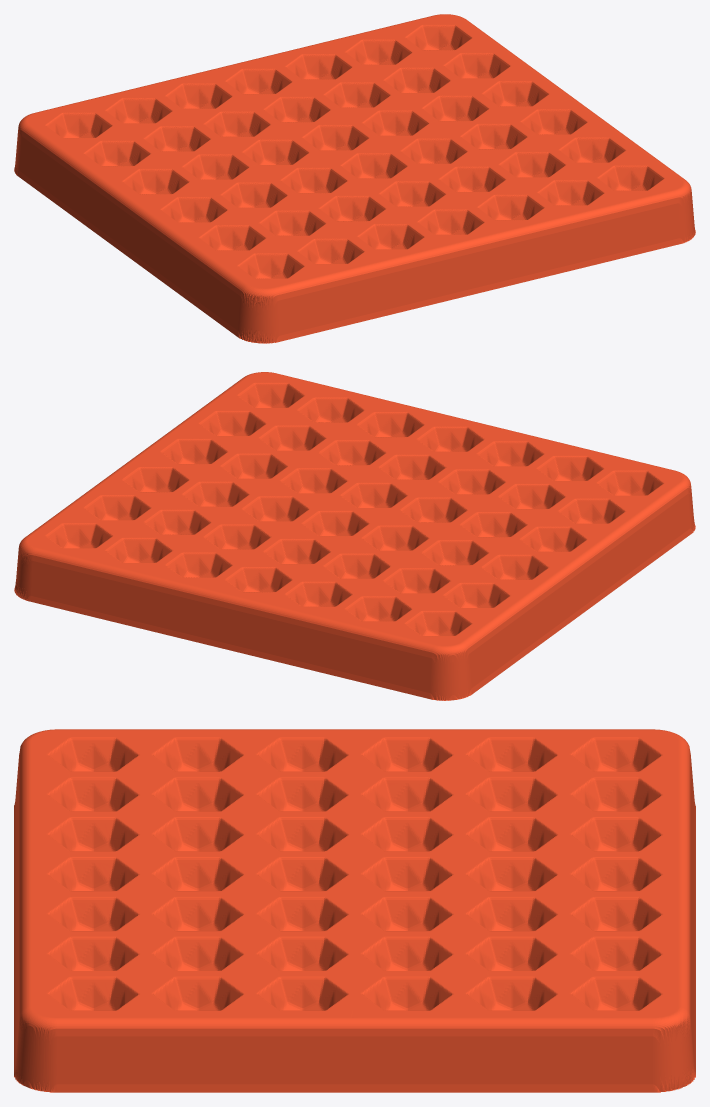
Rendered from mold.glb.
The picture shows the model from 3 angles, top to bottom: view 1: azimuth 30°, elevation 25°; view 2: azimuth 150°, elevation 25°; view 3: azimuth 270°, elevation 25°; orthographic projection. The views are drawn at different scales.
Visible parts, largest first — view 1: geometry_0; view 2: geometry_0; view 3: geometry_0.
Part boxes in pixels (x1=…): geometry_0: x1=14, y1=14, x2=695, y2=343; geometry_0: x1=14, y1=372, x2=695, y2=700; geometry_0: x1=14, y1=729, x2=695, y2=1092.
Bounding box in the file's own units: 0.1505 × 0.0157 × 0.1437.
